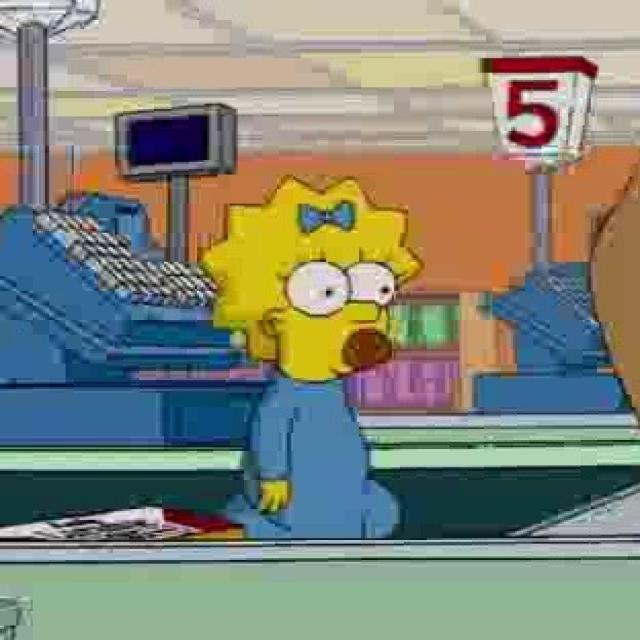Maggie Simpson: (198, 171, 426, 389)
